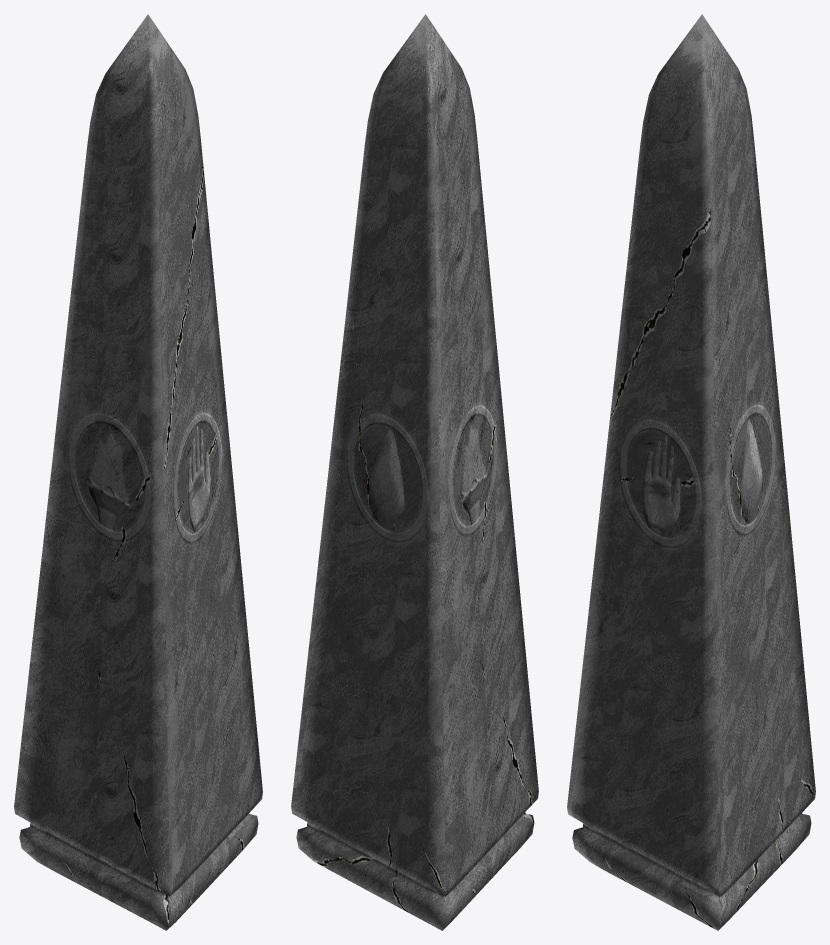
The model's file is obelisk.dae.
3 renders of one model, left to right at view 1: azimuth 30°, elevation 25°; view 2: azimuth 150°, elevation 25°; view 3: azimuth 270°, elevation 25°, orthographic.
Visible parts, largest first — view 1: Cube_000; view 2: Cube_000; view 3: Cube_000.
Boxes of the visible parts, box(x1,y1,x2,y2) form: Cube_000: box(14, 14, 262, 930); Cube_000: box(291, 14, 538, 930); Cube_000: box(567, 14, 815, 930).
Size of the model in its own units: 1.29 by 1.38 by 5.31.
